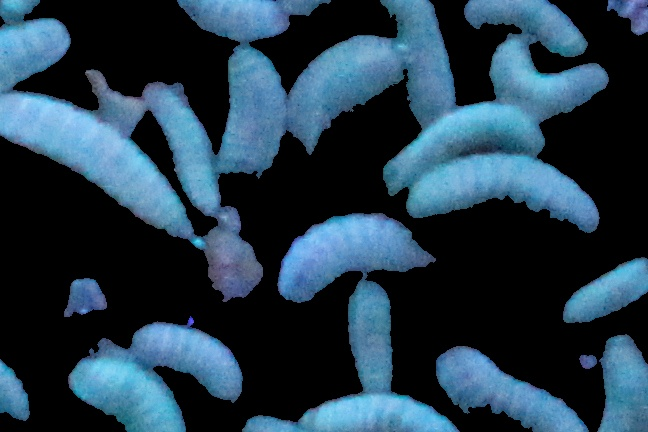larvae: (1, 90, 200, 243), (407, 149, 598, 233), (386, 106, 546, 194), (431, 343, 589, 432), (286, 36, 403, 153), (280, 216, 433, 303), (217, 38, 288, 189), (144, 85, 222, 215), (382, 1, 460, 124), (491, 38, 610, 118), (70, 353, 186, 432), (134, 322, 244, 398), (464, 1, 587, 59), (307, 392, 451, 432), (563, 255, 648, 322), (1, 16, 72, 89), (347, 285, 395, 390), (597, 337, 648, 432), (174, 1, 286, 36)
